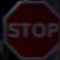Stop: (4, 5, 55, 52)
